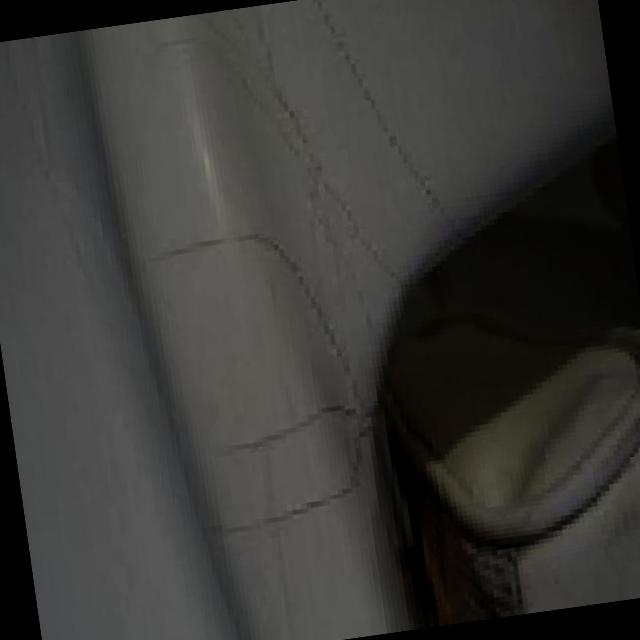crack: (160, 209, 282, 287), (234, 401, 354, 461), (232, 466, 340, 532)
